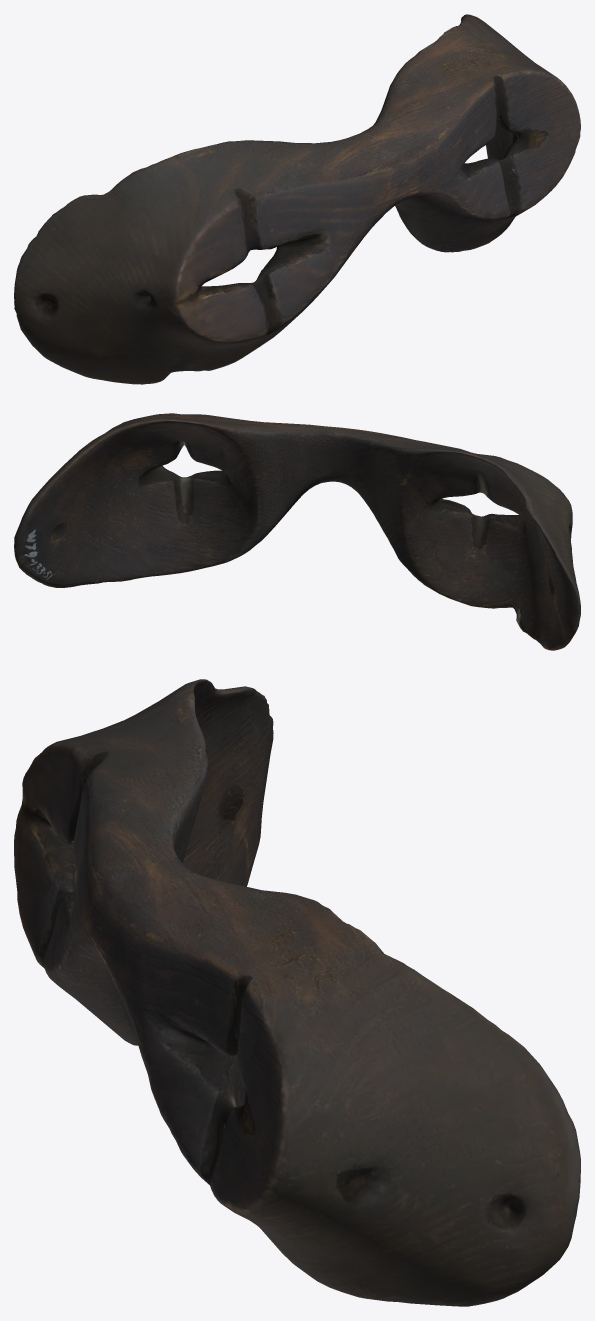
Rendered from snow-goggles.glb.
The picture shows the model from 3 angles, top to bottom: view 1: azimuth 30°, elevation 25°; view 2: azimuth 150°, elevation 25°; view 3: azimuth 270°, elevation 25°; orthographic projection. The views are drawn at different scales.
Parts seen in each view (by area): view 1: default_gogglesSketchfab_0; view 2: default_gogglesSketchfab_0; view 3: default_gogglesSketchfab_0.
Boxes of the visible parts, x1,y1,x2,y2 form: default_gogglesSketchfab_0: [14, 14, 580, 384]; default_gogglesSketchfab_0: [14, 413, 580, 650]; default_gogglesSketchfab_0: [14, 679, 580, 1306].
Size of the model in its own units: 0.2672 by 0.0948 by 0.1448.
Materials: 1 (1 with a texture image).
